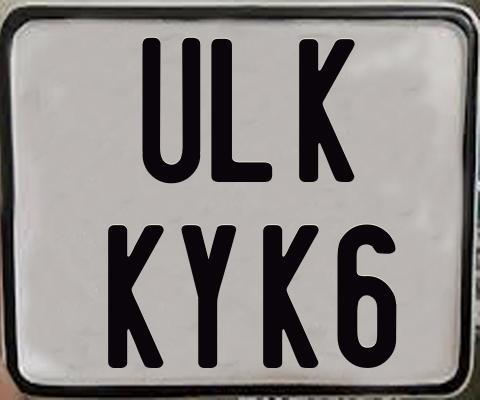6: (336, 221, 402, 365)
K: (263, 225, 325, 369), (296, 37, 356, 184), (107, 224, 163, 370)
L: (211, 36, 275, 180)
U: (141, 37, 200, 185)
Y: (181, 225, 240, 372)
